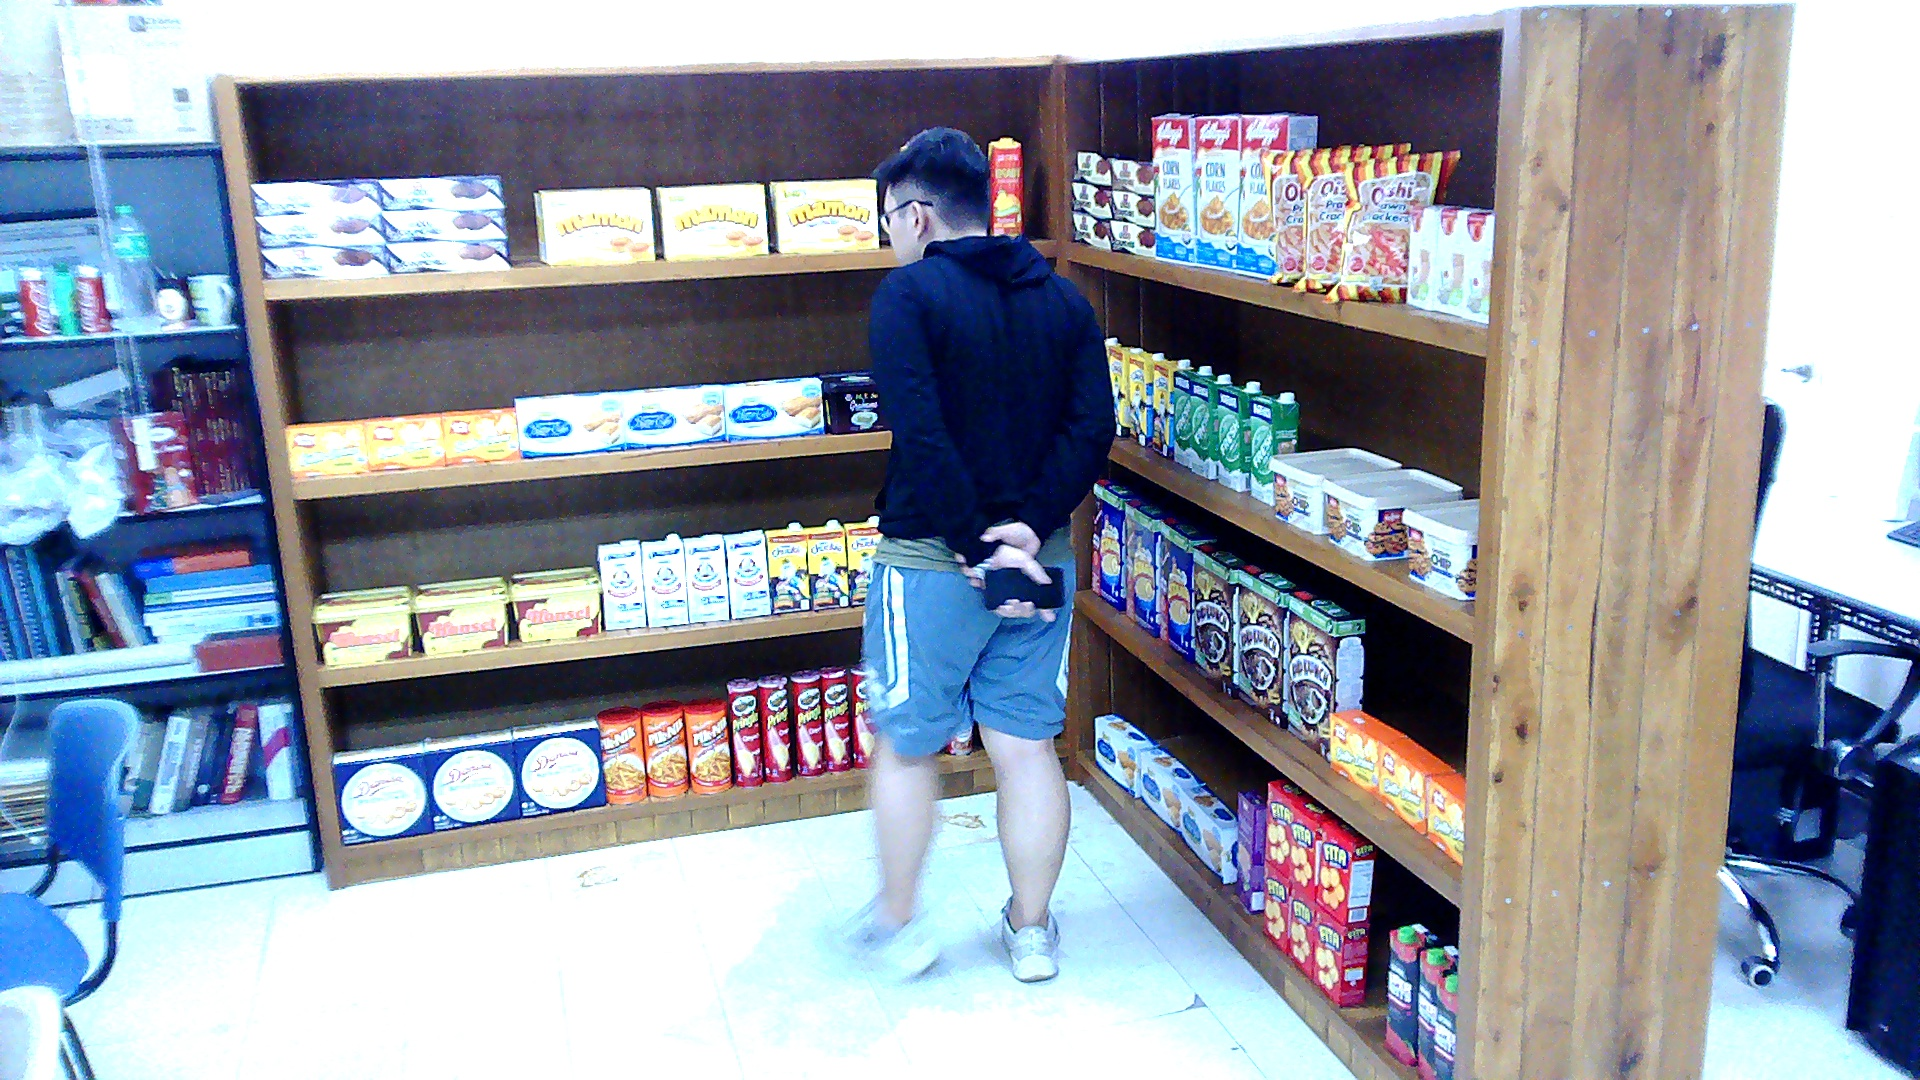Bear brand: (723, 529, 771, 617), (642, 533, 687, 625), (600, 540, 645, 630), (684, 533, 729, 621)
Buttercake: (516, 389, 624, 459), (621, 382, 723, 447), (723, 378, 822, 441), (1140, 747, 1206, 837), (1182, 785, 1236, 882), (1095, 713, 1158, 796)
Butterlicious: (1377, 737, 1455, 834), (1329, 709, 1407, 797), (284, 418, 365, 477), (362, 411, 443, 470), (441, 407, 519, 466), (1425, 772, 1464, 866)
Choco Crunchies: (249, 178, 381, 214), (252, 212, 384, 248), (383, 207, 506, 243), (378, 173, 504, 207), (258, 245, 390, 277), (387, 240, 510, 272), (1071, 151, 1119, 185), (1110, 189, 1152, 225), (1071, 212, 1110, 250), (1110, 220, 1152, 256), (1110, 162, 1152, 196), (1071, 182, 1110, 218)
Chocolate Chips: (1320, 468, 1461, 560), (1269, 448, 1401, 534), (1401, 497, 1479, 600)
Chuckie: (764, 522, 809, 614), (1152, 357, 1194, 456), (804, 520, 846, 610), (1127, 350, 1166, 447), (843, 515, 882, 605), (1110, 344, 1146, 436)
Danisa: (330, 742, 432, 845), (423, 726, 519, 829), (510, 715, 606, 816)
Fita: (1316, 817, 1373, 925), (1310, 904, 1367, 1007), (1263, 776, 1311, 875), (1290, 798, 1332, 899), (1287, 882, 1314, 976), (1263, 860, 1287, 954)
Fresh Milk: (1251, 391, 1299, 506), (1218, 380, 1263, 490), (1191, 373, 1233, 479), (1173, 366, 1215, 467)
Grahams: (815, 368, 878, 431)
Hansel: (309, 584, 411, 663), (414, 576, 510, 652), (510, 565, 600, 639)
Head: (867, 124, 993, 264)
Honey Stars: (1158, 512, 1215, 663), (1091, 477, 1142, 612), (1125, 499, 1167, 639)
Kellogg Corn Flakes: (1233, 115, 1317, 279), (1194, 112, 1239, 269), (1152, 112, 1194, 265)
Kimchi Noodles: (942, 716, 972, 756)
Koko Krunch: (1287, 587, 1362, 763), (1239, 560, 1299, 729), (1191, 540, 1242, 697)
Locally Mango: (987, 135, 1023, 241)
Mamon: (534, 184, 654, 265), (654, 182, 768, 261), (767, 178, 878, 252)
Oishi Prawn: (1323, 146, 1458, 303), (1290, 139, 1410, 290), (1260, 148, 1302, 283)
Pik-nik: (593, 704, 644, 805), (639, 699, 687, 796), (684, 698, 732, 792)
Pringles: (756, 673, 792, 783), (789, 668, 825, 776), (726, 677, 762, 787), (819, 666, 849, 772), (849, 662, 876, 770)
Super Fruits: (1385, 922, 1436, 1066), (1416, 944, 1458, 1077), (1431, 974, 1458, 1077)
Wafer: (1236, 785, 1266, 913)
iHop: (1434, 205, 1479, 315), (1407, 200, 1443, 308), (1460, 206, 1493, 321)
